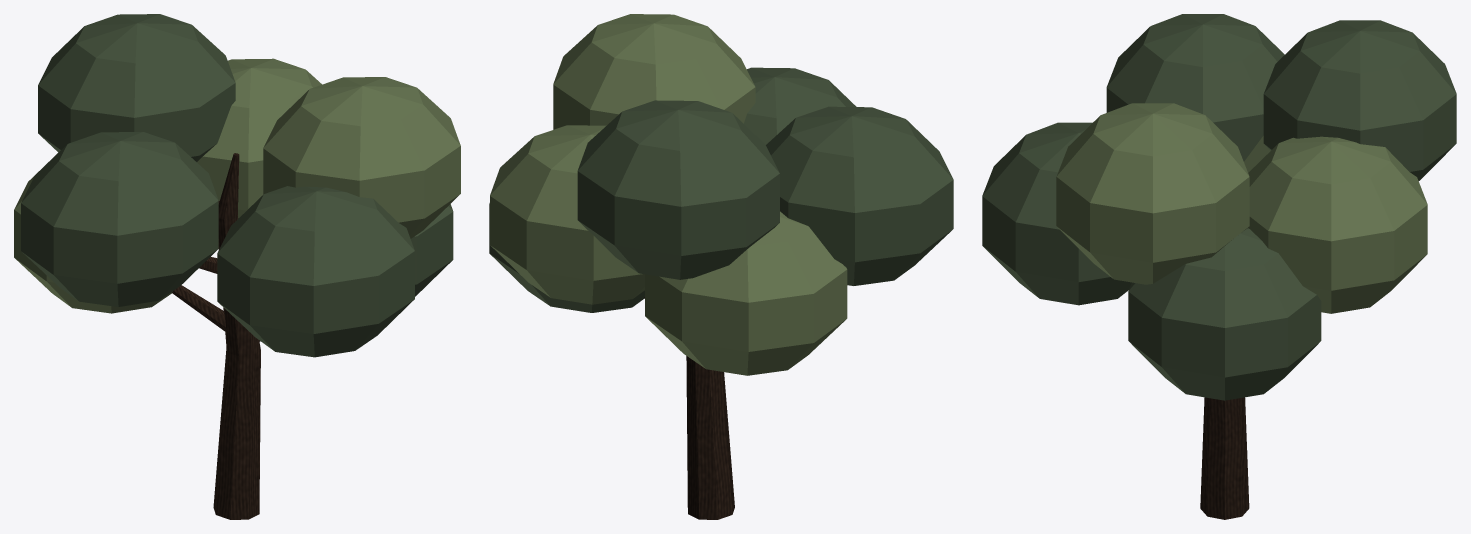
Rendered from Tree_Broadleaf_01.glb.
The picture shows the model from 3 angles, left to right: view 1: azimuth 30°, elevation 25°; view 2: azimuth 150°, elevation 25°; view 3: azimuth 270°, elevation 25°; orthographic projection. The views are drawn at different scales.
Visible parts, largest first — view 1: Tree_Broadleaf_01; view 2: Tree_Broadleaf_01; view 3: Tree_Broadleaf_01.
Boxes of the visible parts, left/top/right/bottom form: Tree_Broadleaf_01: left=14, top=14, right=460, bottom=519; Tree_Broadleaf_01: left=489, top=14, right=953, bottom=519; Tree_Broadleaf_01: left=982, top=14, right=1456, bottom=519.
Size of the model in its own units: 4.04 by 4.15 by 3.87.
Materials: 3 (1 with a texture image).
